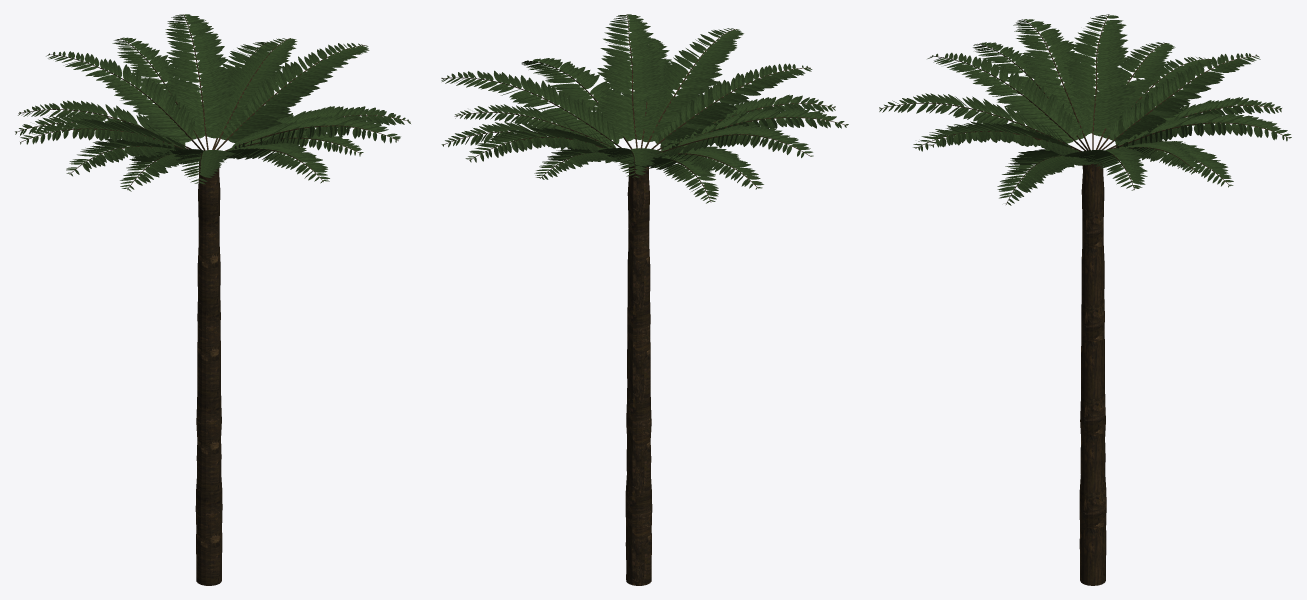
File: tree_fern_v02.fbx
3 views of the same model, side by side, from view 1: azimuth 30°, elevation 25°; view 2: azimuth 150°, elevation 25°; view 3: azimuth 270°, elevation 25° (orthographic).
Visible parts, largest first — view 1: tree_fern_v02; view 2: tree_fern_v02; view 3: tree_fern_v02.
Boxes of the visible parts, left/top/right/bottom form: tree_fern_v02: left=15, top=14, right=410, bottom=585; tree_fern_v02: left=441, top=14, right=848, bottom=585; tree_fern_v02: left=879, top=14, right=1291, bottom=585.
Size of the model in its own units: 339 by 437 by 336.
Materials: 2 (2 with a texture image).
